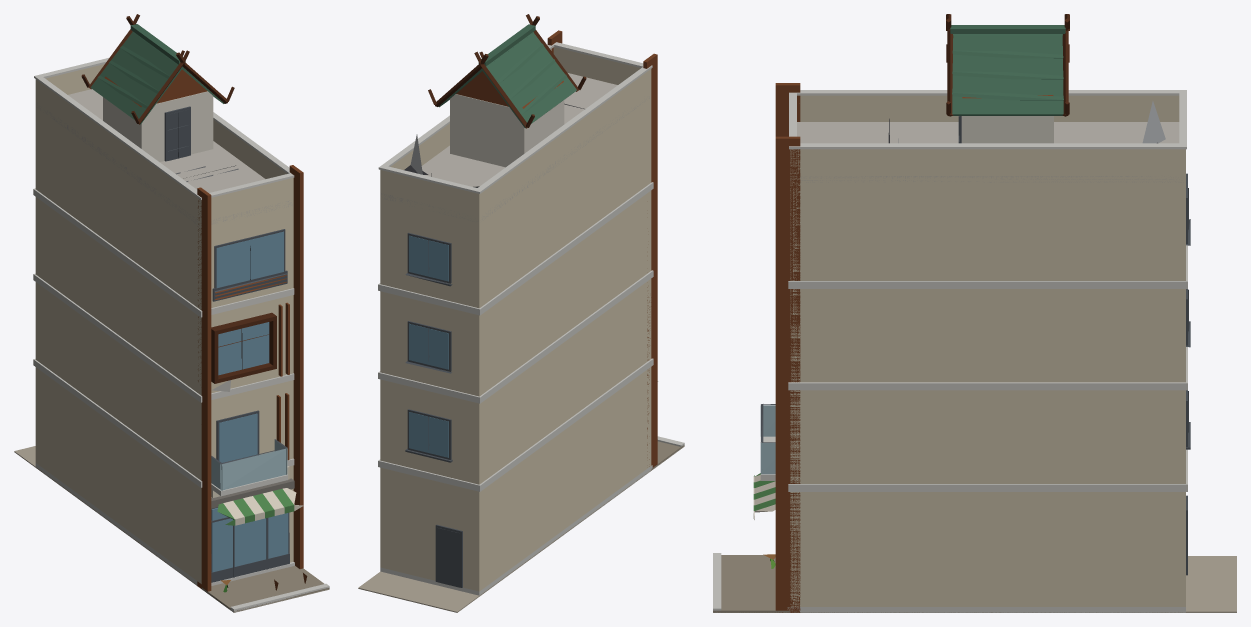
Rendered from bay2_mid2.glb.
3 renders of one model, left to right at view 1: azimuth 30°, elevation 25°; view 2: azimuth 150°, elevation 25°; view 3: azimuth 270°, elevation 25°, orthographic. The views are drawn at different scales.
Visible parts, largest first — view 1: body; view 2: body; view 3: body.
Boxes of the visible parts, bbox=[...] form: body: bbox=[14, 14, 329, 612]; body: bbox=[358, 14, 684, 612]; body: bbox=[713, 14, 1236, 612].
Bounding box in the file's own units: 4.32 × 19.43 × 15.9.
